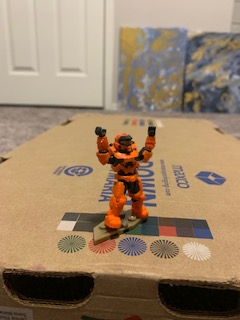spartan: (92, 124, 158, 233)
up: (94, 124, 157, 175)
